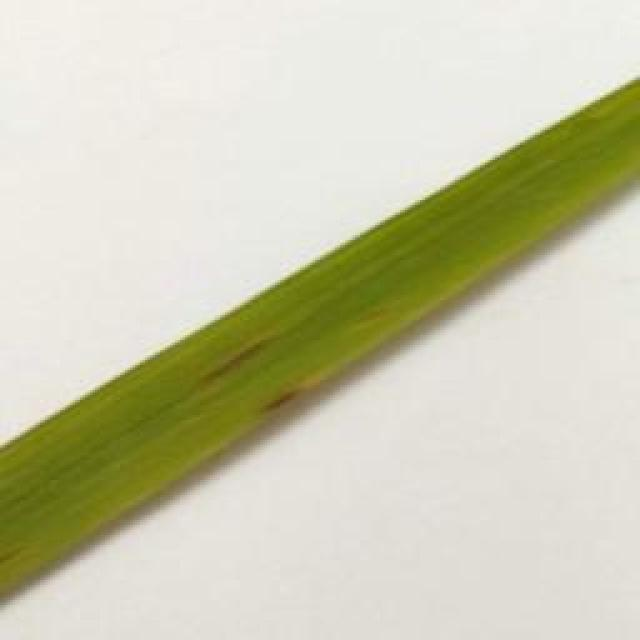Brown_Spot: (194, 330, 286, 403), (258, 381, 316, 420)
